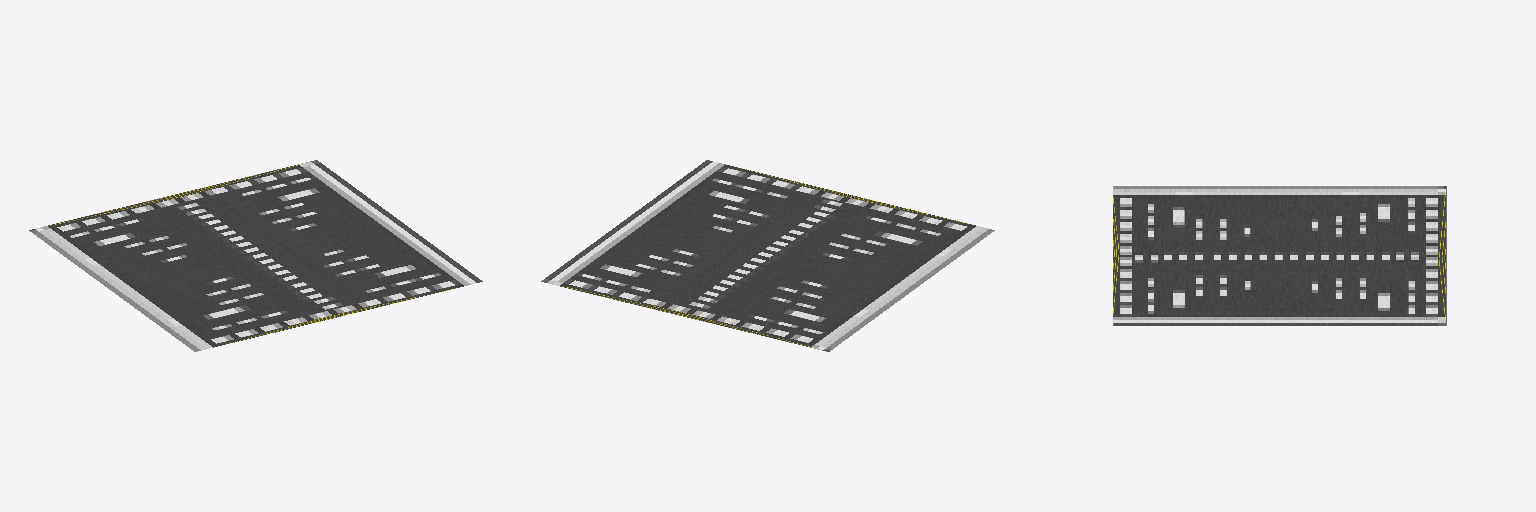
3 views of the same model, side by side, from view 1: azimuth 30°, elevation 25°; view 2: azimuth 150°, elevation 25°; view 3: azimuth 270°, elevation 25° (orthographic).
Parts seen in each view (by area): view 1: rectangle__1_0; view 2: rectangle__1_0; view 3: rectangle__1_0.
Boxes of the visible parts, x1,y1,x2,y2 form: rectangle__1_0: [29, 160, 482, 351]; rectangle__1_0: [541, 160, 994, 351]; rectangle__1_0: [1113, 186, 1446, 325].
Size of the model in its own units: 1 by 0 by 1.
1 materials, 1 textured.